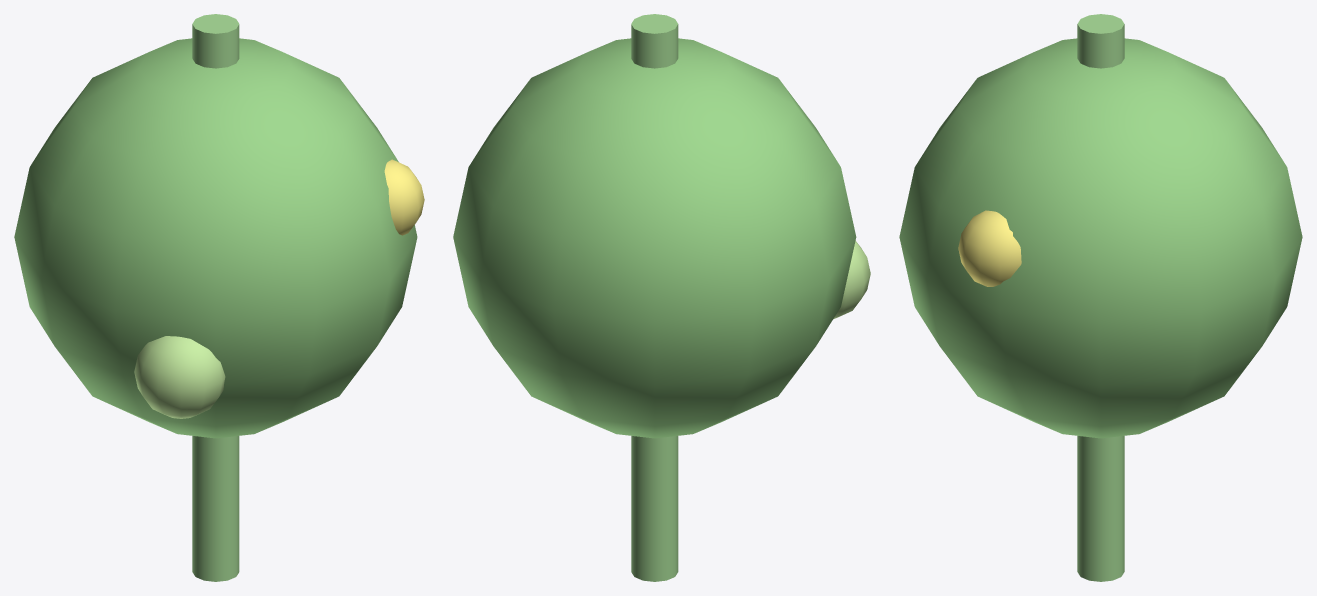
The model's file is crop_tomato_growing.glb.
3 renders of one model, left to right at view 1: azimuth 30°, elevation 25°; view 2: azimuth 150°, elevation 25°; view 3: azimuth 270°, elevation 25°, orthographic.
Parts seen in each view (by area): view 1: Crop_Tomato_Growing; view 2: Crop_Tomato_Growing; view 3: Crop_Tomato_Growing.
Boxes of the visible parts, left/top/right/bottom form: Crop_Tomato_Growing: left=14, top=14, right=424, bottom=581; Crop_Tomato_Growing: left=453, top=14, right=870, bottom=581; Crop_Tomato_Growing: left=899, top=14, right=1302, bottom=581.
Size of the model in its own units: 0.24 by 0.36 by 0.24.
